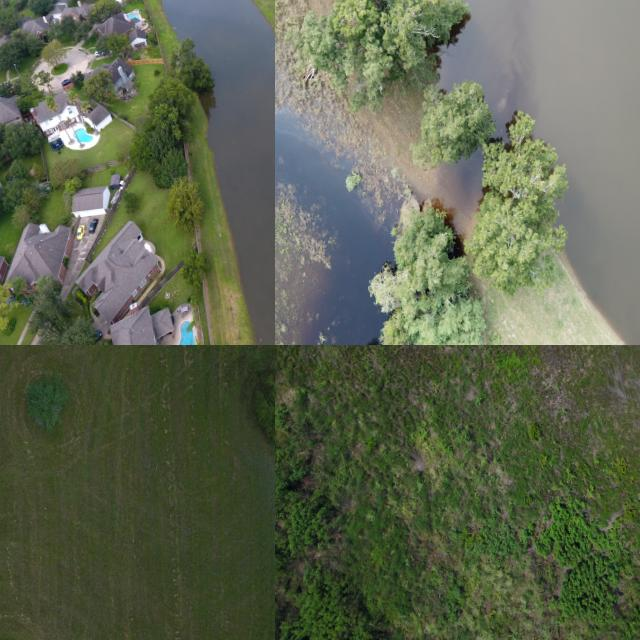fire: (438, 0, 640, 345), (162, 0, 275, 345), (275, 108, 393, 345)
